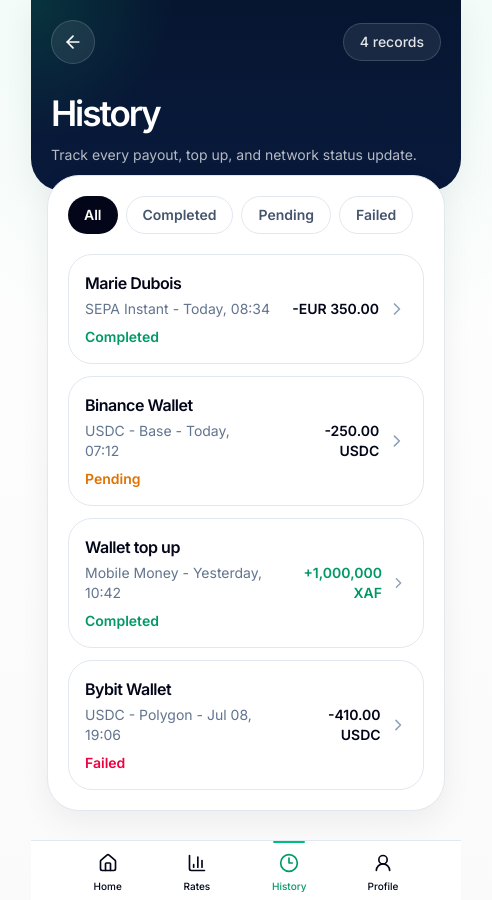
Test: supporting app routes › renders history filters and transaction links on the history route
Expected: the heading "History" is shown, [51,92,160,134]
Click the button "pending" at (286,215), box [242,196,331,234]
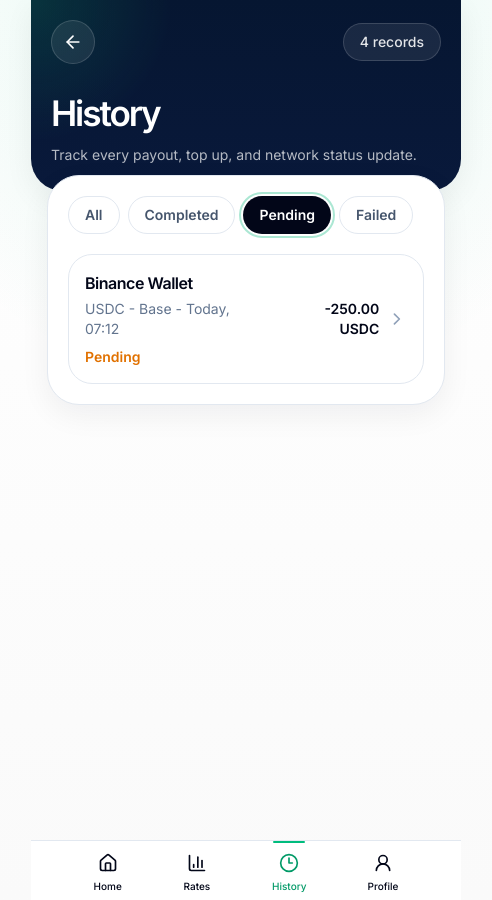
Expected: the text "Binance Wallet" is shown, [85,273,193,293]
Result: the link "Marie Dubois" is gone
